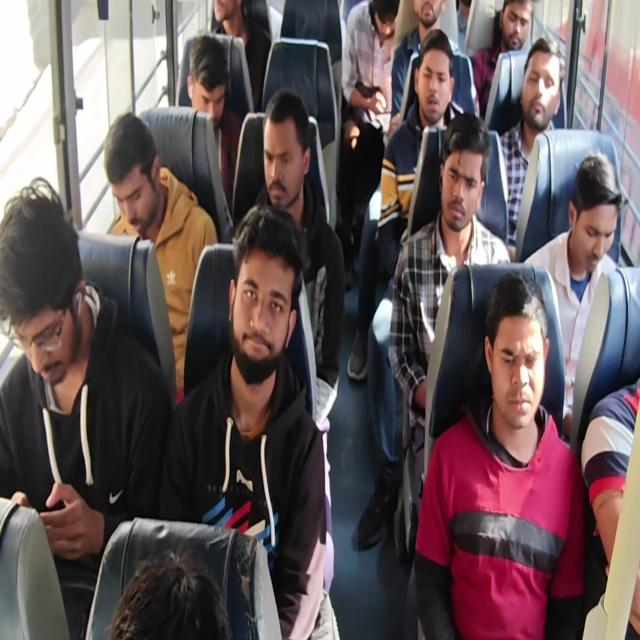person: (1, 185, 91, 390), (105, 522, 237, 640), (226, 199, 306, 380), (476, 271, 554, 426), (95, 121, 177, 233), (562, 146, 624, 265), (256, 84, 313, 213), (430, 116, 490, 228), (183, 26, 231, 128), (411, 24, 455, 124), (519, 40, 565, 127), (503, 0, 532, 58), (368, 6, 403, 44), (414, 0, 445, 29), (210, 0, 240, 26)
